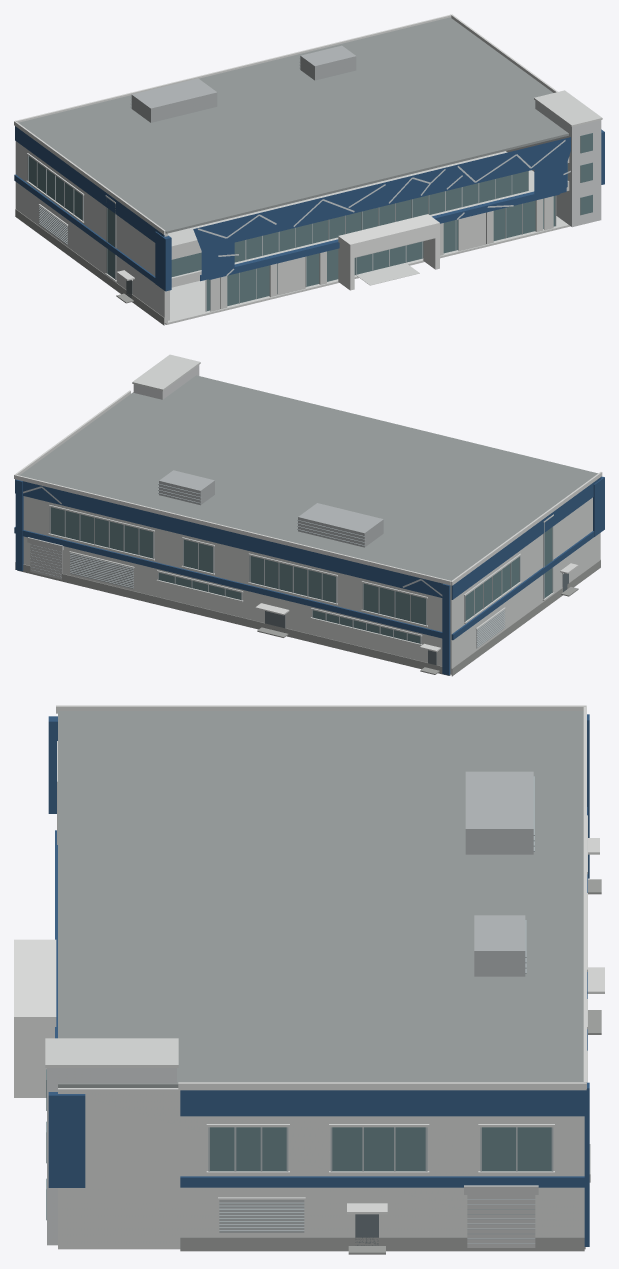
The picture shows the model from 3 angles, top to bottom: view 1: azimuth 30°, elevation 25°; view 2: azimuth 150°, elevation 25°; view 3: azimuth 270°, elevation 25°; orthographic projection. The views are drawn at different scales.
Visible parts, largest first — view 1: c17__roof, c17__blueFacade, c17__side-1, c17__upperGlass, c17__groundGlass, c17__foundation, c17__rightEndTower, c17__roof AHU, c17__entryBoxHead, c17__L top band, c17__roof AHU.001, c17__rear coping (+16 smaller); view 2: c17__roof, c17__rear, c17__rear top band, c17__side-1, c17__rear plinth, c17__rear floor band, c17__rear up D glass, c17__roof AHU, c17__rear coping, c17__rear up B glass, c17__L top band, c17__rear up A glass (+17 smaller); view 3: c17__roof, c17__side1, c17__R top band, c17__roof AHU, c17__R plinth, c17__R floor band, c17__entryBoxHead, c17__R up B glass, c17__rightEndTowerCap, c17__R coping, c17__R loading shutter, c17__blueEndBlade1 (+11 smaller).
Part boxes in pixels (x1,y1,x2,y2): c17__roof: (18, 17, 568, 233); c17__blueFacade: (193, 137, 570, 279); c17__side-1: (15, 141, 167, 323); c17__upperGlass: (234, 171, 528, 262); c17__groundGlass: (207, 196, 555, 310); c17__foundation: (165, 151, 570, 324); c17__rightEndTower: (535, 101, 601, 227); c17__roof AHU: (131, 78, 217, 122); c17__entryBoxHead: (338, 214, 439, 258); c17__L top band: (15, 126, 164, 242); c17__roof AHU.001: (300, 45, 356, 80); c17__rear coping: (16, 14, 451, 122); c17__roof: (19, 375, 597, 580); c17__rear: (23, 496, 442, 666); c17__rear top band: (23, 481, 442, 597); c17__side-1: (450, 497, 600, 674); c17__rear plinth: (17, 564, 449, 675); c17__rear floor band: (22, 530, 442, 638); c17__rear up D glass: (51, 507, 152, 558); c17__roof AHU: (298, 503, 383, 547); c17__rear coping: (15, 475, 450, 585); c17__rear up B glass: (250, 556, 335, 602); c17__L top band: (451, 477, 601, 599); c17__rear up A glass: (363, 583, 425, 624); c17__roof: (58, 711, 583, 1087); c17__side1: (58, 1088, 584, 1247); c17__R top band: (180, 1090, 584, 1116); c17__roof AHU: (465, 771, 533, 854); c17__R plinth: (180, 1237, 584, 1251); c17__R floor band: (180, 1176, 584, 1187); c17__entryBoxHead: (14, 939, 56, 1041); c17__R up B glass: (332, 1127, 425, 1171); c17__rightEndTowerCap: (45, 1038, 178, 1067); c17__R coping: (178, 1082, 586, 1090); c17__R loading shutter: (467, 1195, 535, 1247); c17__blueEndBlade1: (48, 1092, 85, 1187).
Bounding box in the file's own units: 54.6 × 12.38 × 34.8.
